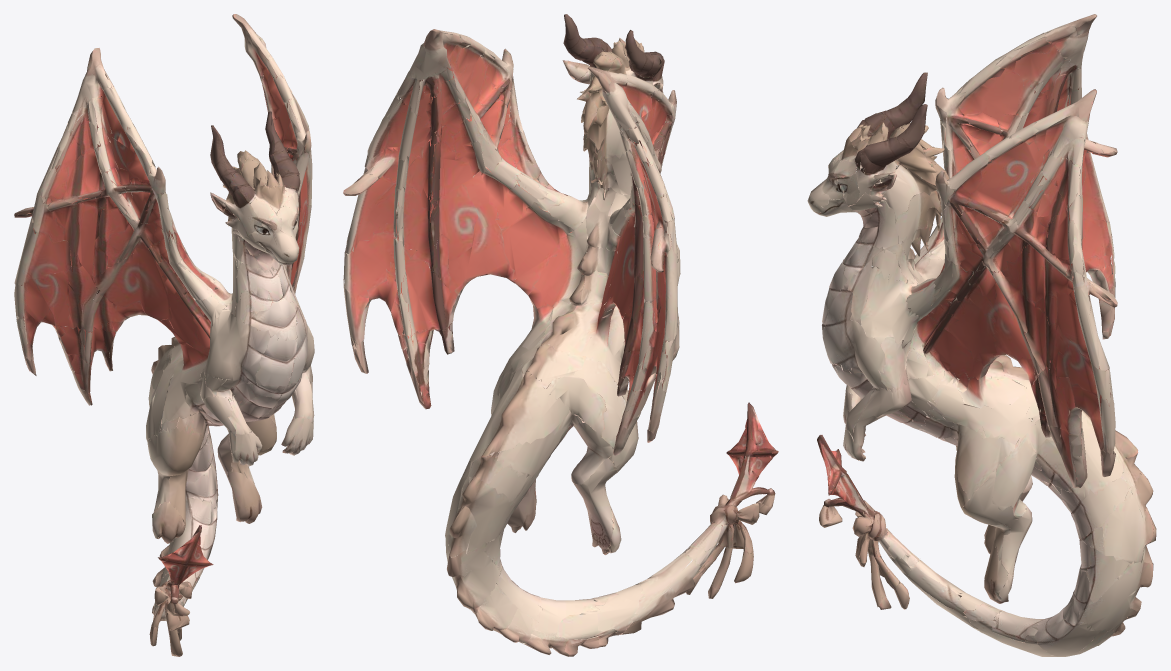
3 renders of one model, left to right at view 1: azimuth 30°, elevation 25°; view 2: azimuth 150°, elevation 25°; view 3: azimuth 270°, elevation 25°, orthographic. The views are drawn at different scales.
Parts seen in each view (by area): view 1: Mesh_0; view 2: Mesh_0; view 3: Mesh_0.
Boxes of the visible parts, x1=… form: Mesh_0: x1=14, y1=14, x2=314, y2=656; Mesh_0: x1=343, y1=14, x2=778, y2=656; Mesh_0: x1=807, y1=14, x2=1156, y2=656.
Size of the model in its own units: 1.06 by 1.9 by 0.9738.
1 material, 1 textured.
